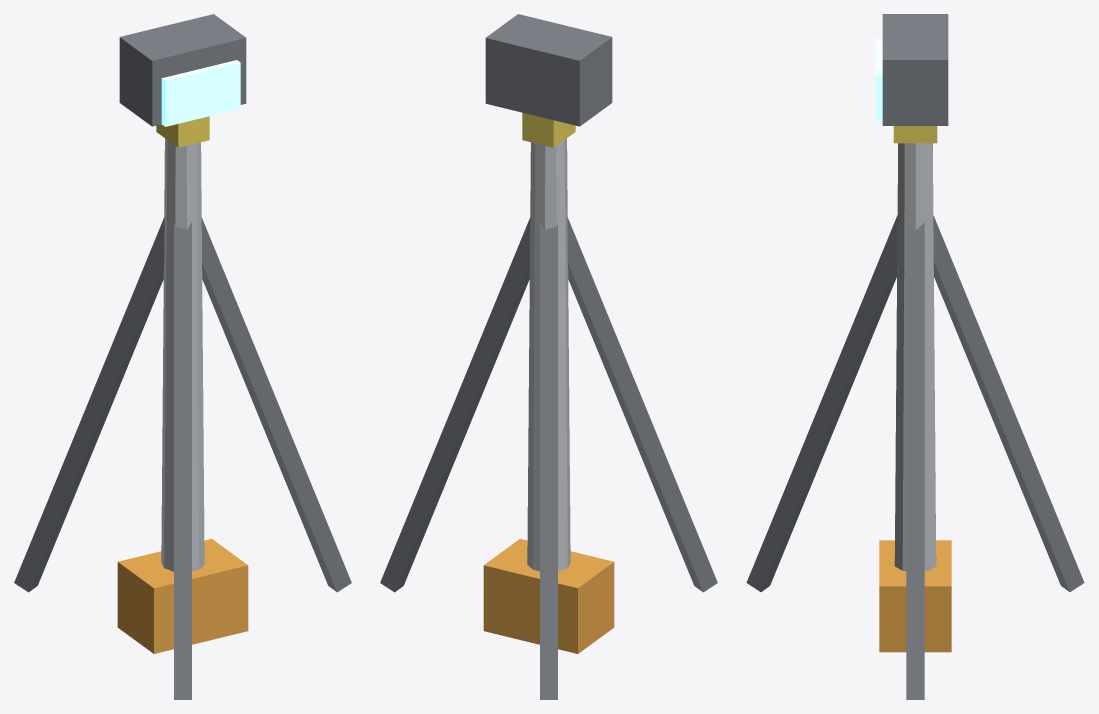
File: spotlight-tower.glb
3 renders of one model, left to right at view 1: azimuth 30°, elevation 25°; view 2: azimuth 150°, elevation 25°; view 3: azimuth 270°, elevation 25°, orthographic.
Visible parts, largest first — view 1: spotlight-tower, lamp-head/graphite, lamp-head/glow, lamp-head/yellow; view 2: spotlight-tower, lamp-head/graphite, lamp-head/yellow; view 3: spotlight-tower, lamp-head/graphite, lamp-head/yellow, lamp-head/glow.
Part boxes in pixels (x1=…): spotlight-tower: x1=14, y1=138, x2=351, y2=699; lamp-head/graphite: x1=119, y1=14, x2=246, y2=126; lamp-head/glow: x1=161, y1=60, x2=240, y2=126; lamp-head/yellow: x1=156, y1=116, x2=209, y2=147; spotlight-tower: x1=380, y1=138, x2=717, y2=699; lamp-head/graphite: x1=485, y1=14, x2=612, y2=126; lamp-head/yellow: x1=522, y1=112, x2=575, y2=147; spotlight-tower: x1=746, y1=143, x2=1084, y2=699; lamp-head/graphite: x1=882, y1=14, x2=948, y2=125; lamp-head/yellow: x1=893, y1=126, x2=937, y2=143; lamp-head/glow: x1=875, y1=38, x2=882, y2=121.
Size of the model in its own units: 0.8066 by 1.8 by 0.9313.
